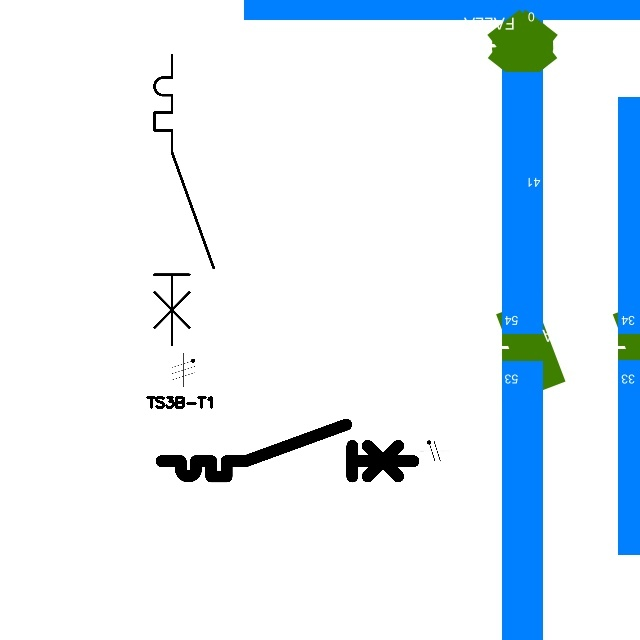interruptor_termomagnetico: (147, 48, 221, 353), (155, 418, 420, 483)
